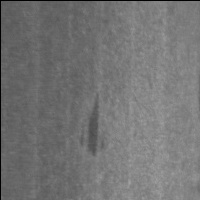inclusion: (75, 87, 109, 161)
